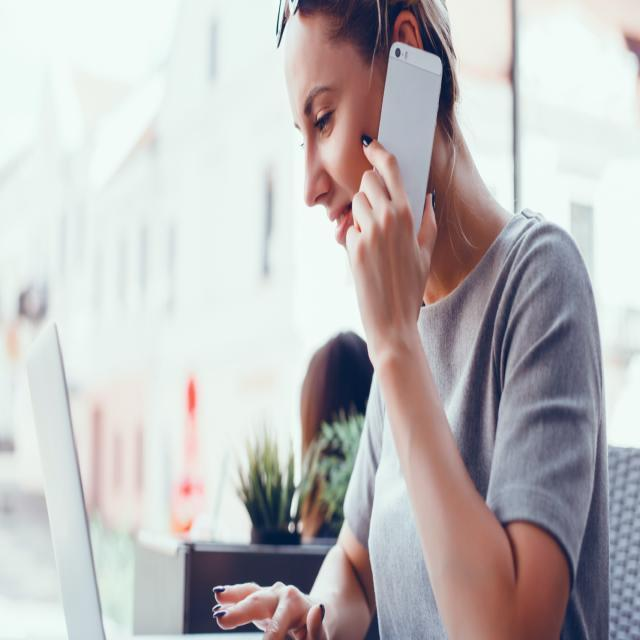phone: (374, 43, 444, 241)
